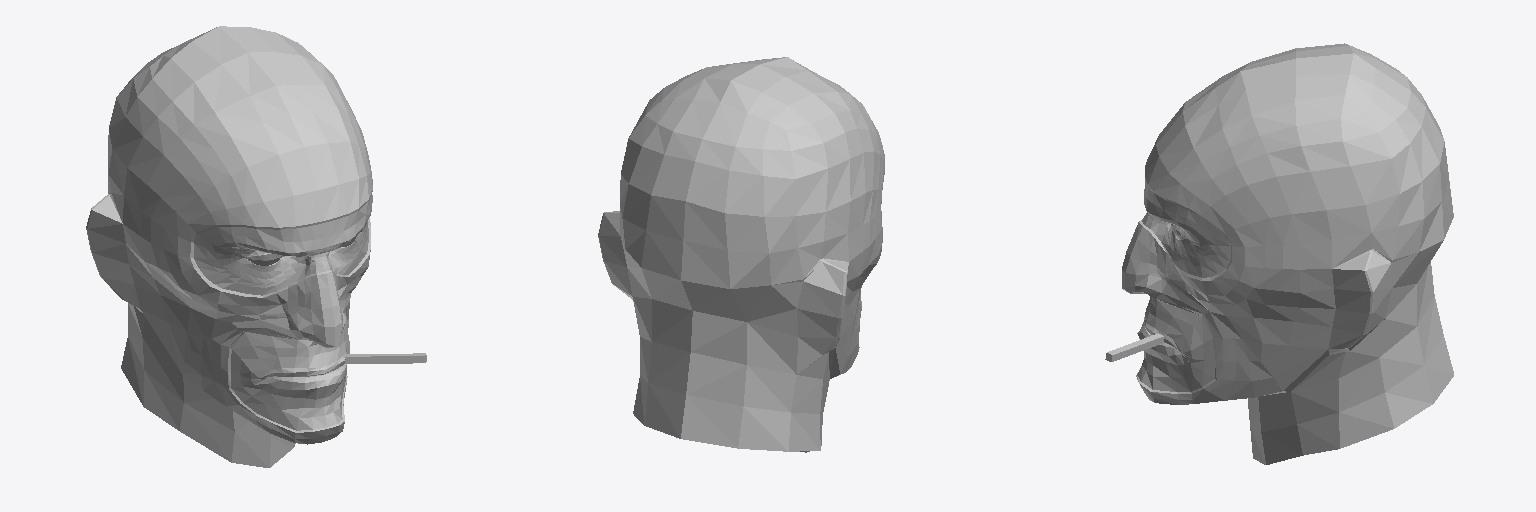
Rendered from spyT.obj.
The picture shows the model from 3 angles: view 1: azimuth 30°, elevation 25°; view 2: azimuth 150°, elevation 25°; view 3: azimuth 270°, elevation 25°; orthographic projection.
Bounding box in the file's own units: 7.57 × 11.88 × 9.27.